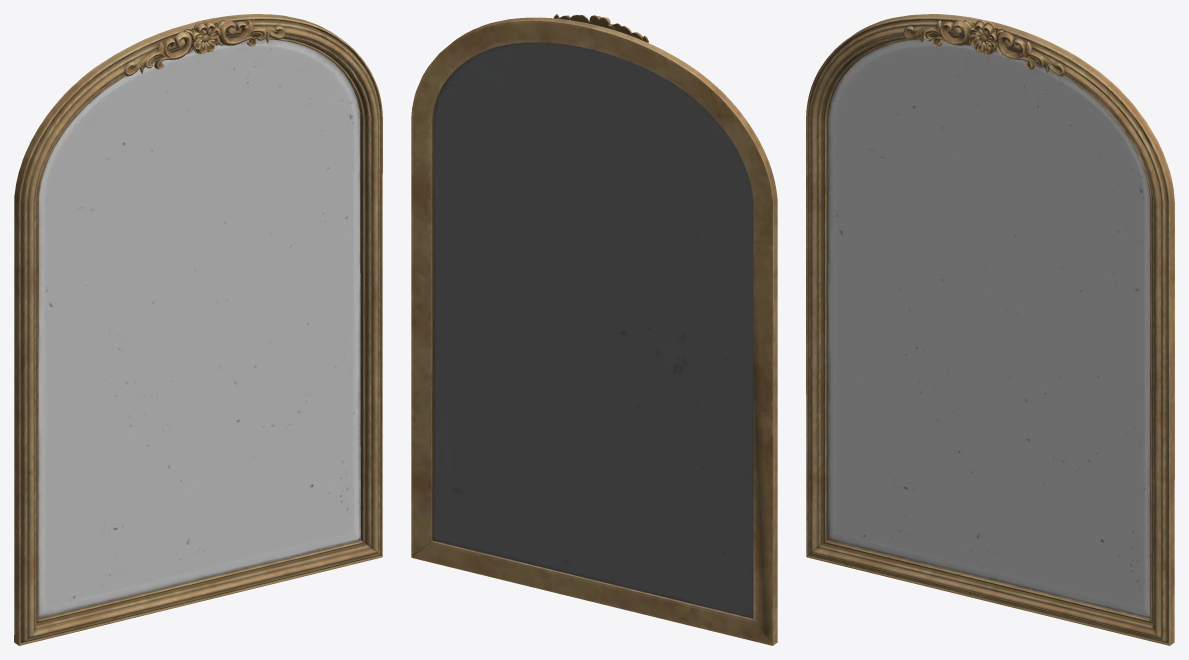
Rendered from ornate_mirror_01.glb.
3 renders of one model, left to right at view 1: azimuth 30°, elevation 25°; view 2: azimuth 150°, elevation 25°; view 3: azimuth 330°, elevation 25°, orthographic.
Visible parts, largest first — view 1: ornate_mirror_01; view 2: ornate_mirror_01; view 3: ornate_mirror_01.
Part boxes in pixels (left/top/right/bottom): ornate_mirror_01: left=14, top=14, right=382, bottom=645; ornate_mirror_01: left=411, top=14, right=777, bottom=645; ornate_mirror_01: left=806, top=14, right=1174, bottom=645.
Size of the model in its own units: 0.4865 by 0.7442 by 0.026.
Materials: 1 (1 with a texture image).
